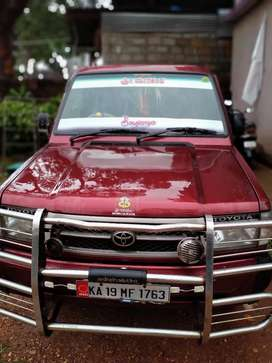KA19MF1763: (77, 281, 169, 302)
